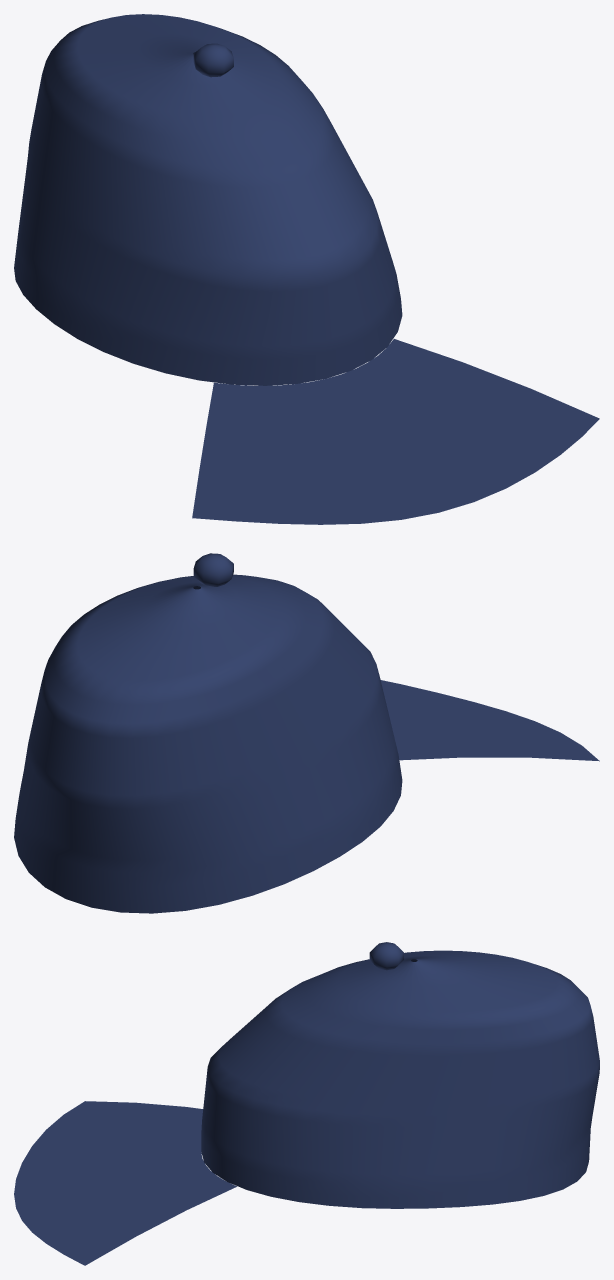
File: cap_baseball_m.glb
3 views of the same model, one above another, from view 1: azimuth 30°, elevation 25°; view 2: azimuth 150°, elevation 25°; view 3: azimuth 270°, elevation 25° (orthographic). The views are drawn at different scales.
Visible parts, largest first — view 1: hair; view 2: hair; view 3: hair.
Part boxes in pixels (x1=…): hair: x1=14, y1=14, x2=599, y2=524; hair: x1=14, y1=553, x2=599, y2=913; hair: x1=14, y1=942, x2=599, y2=1265.
Size of the model in its own units: 0.2375 by 0.168 by 0.3569.
